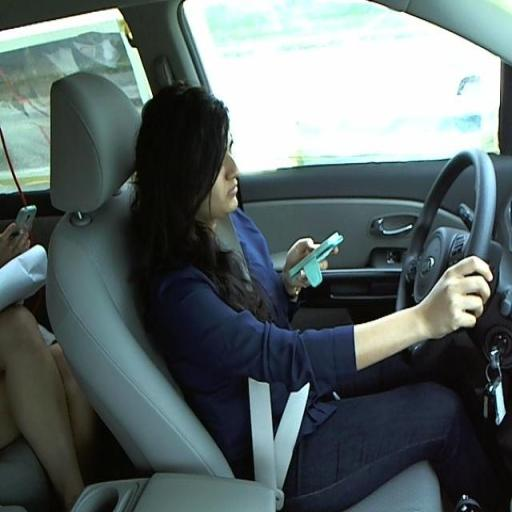texting_phone: (142, 96, 492, 399)
